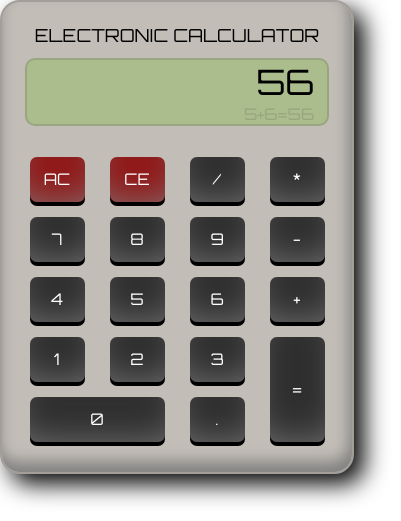
Test: method pressPoint › renders 0. at inputValue and expression if = at expression
expect the text with class "Calc__input-value" reads "56": met, box [256,60,314,104]
expect the text with class "Calc__expression" reads "5+6=56": met, box [244,104,314,124]
What coordinates should you click on to do the following:
click the text with class "Calc__button_FiR"
I would click on:
 (217, 419)
Its box is [190,396,244,442].
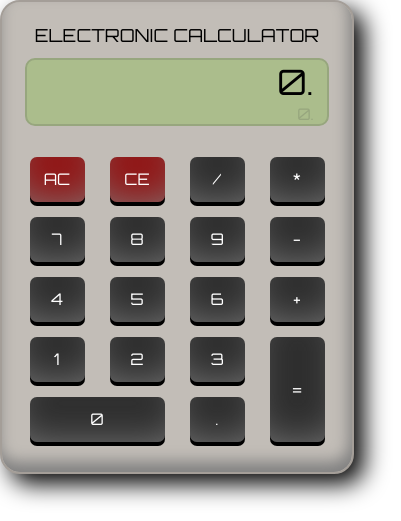
expect the text with class "Calc__expression" reads "0.": met, box [297,104,314,124]
expect the text with class "Calc__input-value" reads "0.": met, box [277,60,314,104]
